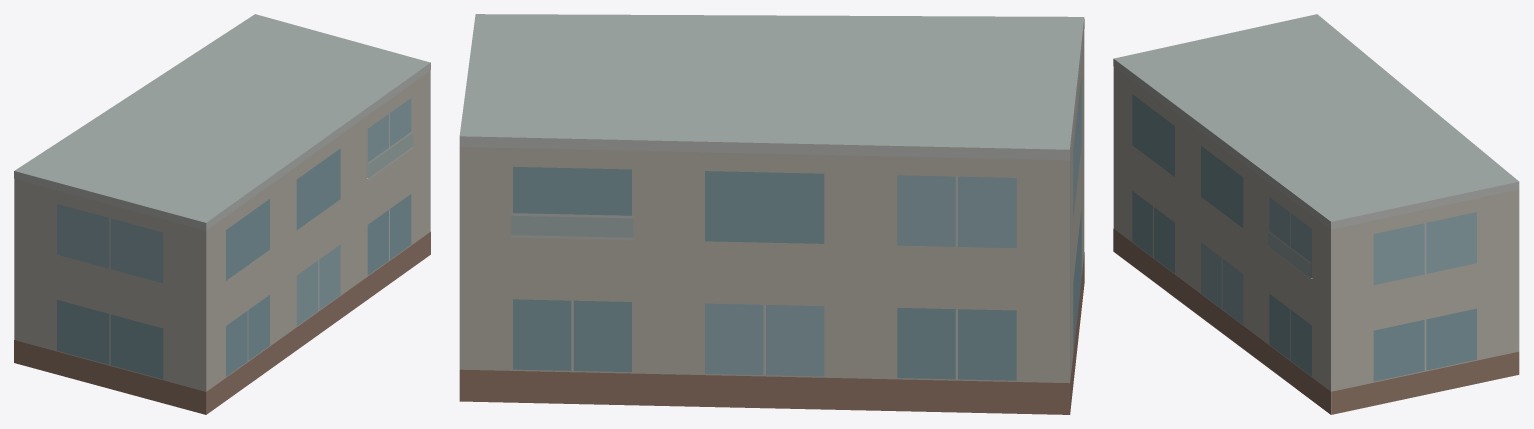
Rendered from survey-upis-32985202.glb.
The picture shows the model from 3 angles, left to right: view 1: azimuth 30°, elevation 25°; view 2: azimuth 150°, elevation 25°; view 3: azimuth 270°, elevation 25°; orthographic projection. The views are drawn at different scales.
Visible parts, largest first — view 1: survey-upis-32985202.tmp; view 2: survey-upis-32985202.tmp; view 3: survey-upis-32985202.tmp.
Part boxes in pixels (x1,y1,x2,y2): survey-upis-32985202.tmp: [14, 14, 430, 414]; survey-upis-32985202.tmp: [459, 14, 1084, 414]; survey-upis-32985202.tmp: [1113, 14, 1519, 414].
Bounding box in the file's own units: 14.09 × 6.1 × 11.63.
